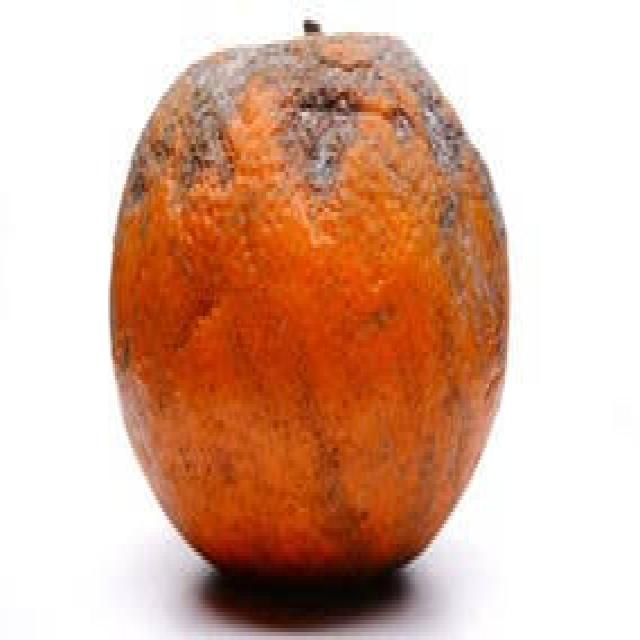overripe: (109, 11, 513, 598)
